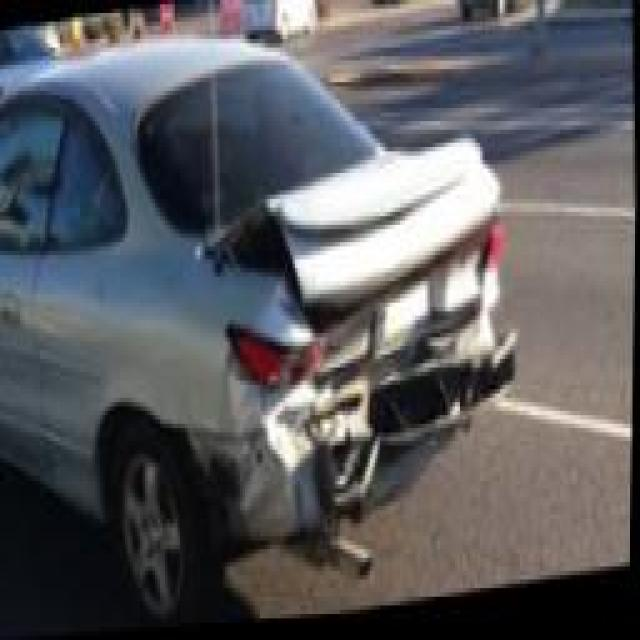Bumper: (191, 311, 524, 544)
Dickey: (199, 144, 502, 382)
